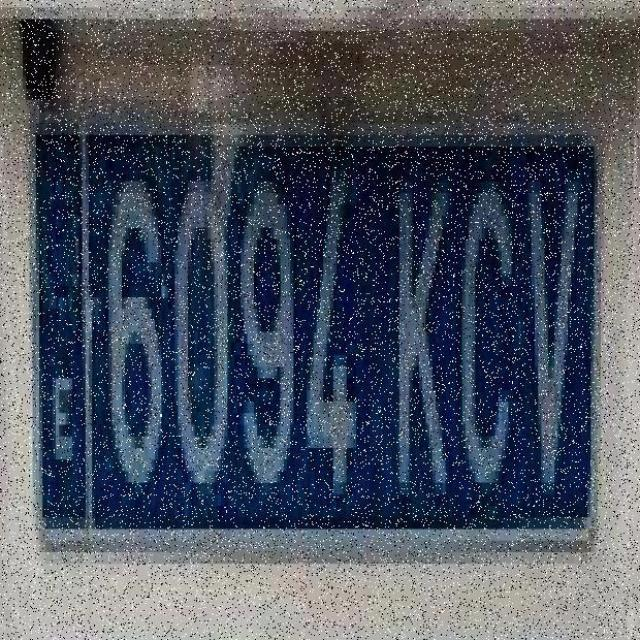license-plate: (41, 131, 612, 555)
